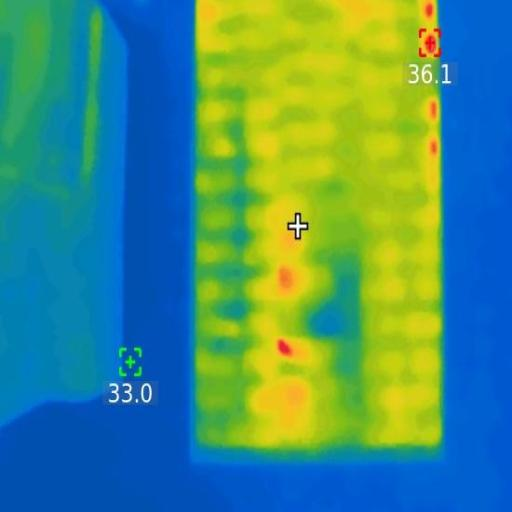hotspot: (276, 333, 296, 358), (420, 34, 438, 54), (424, 98, 438, 122), (280, 269, 292, 295), (422, 4, 436, 17), (430, 138, 440, 152)
